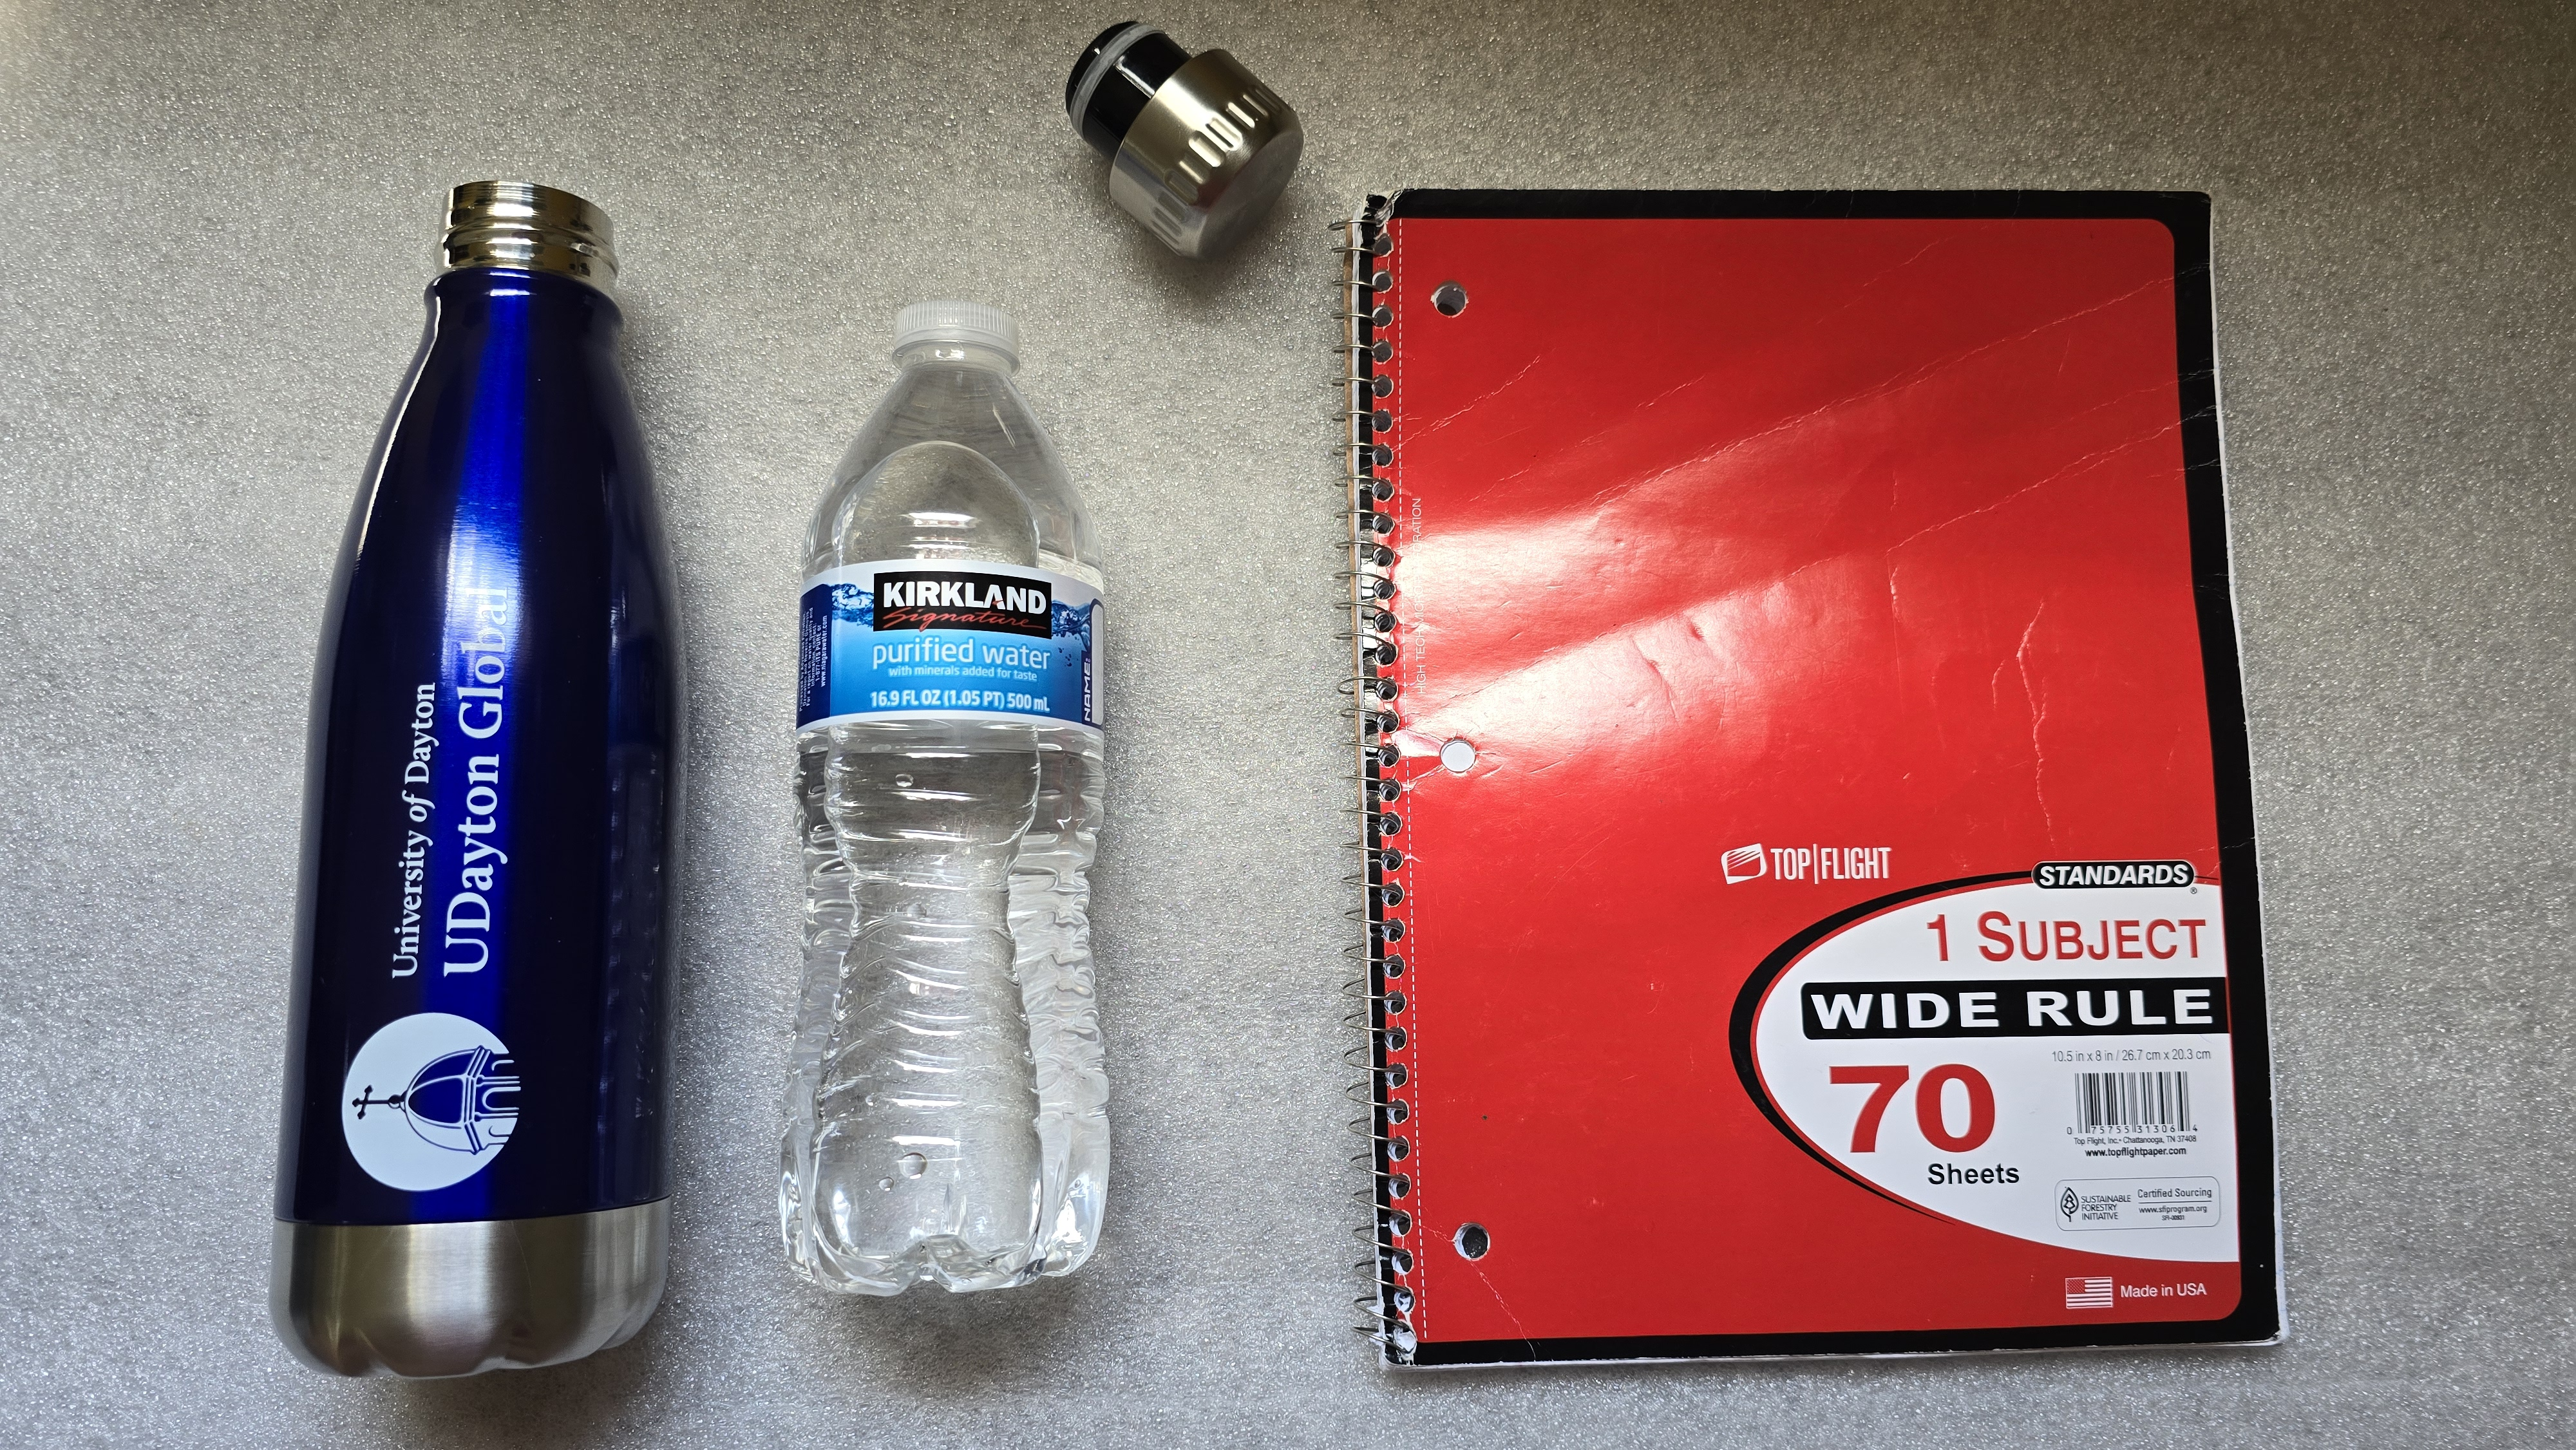bottle: (260, 182, 709, 1377), (767, 290, 1124, 1306)
